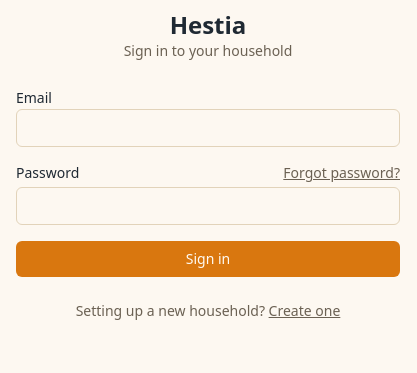
Test: LoginPage › shows an error message when login fails
The image size is (417, 373).
Type "j@example.com" into the field labelled "Email" at [208, 128], box x1=16 y1=109 x2=400 y2=147
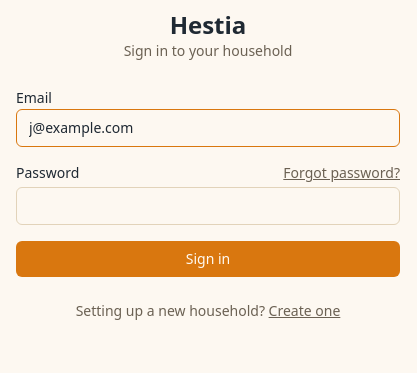
Type "wrong" into the password field labelled "Password" at [208, 206], box x1=16 y1=187 x2=400 y2=225
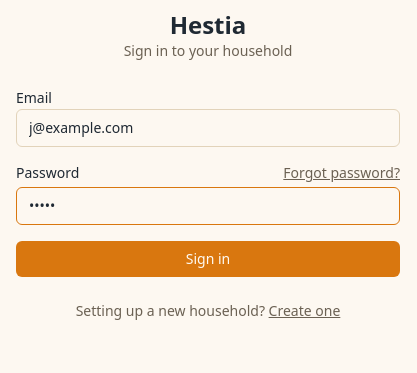
Click the button "Sign in" at [208, 259], box x1=16 y1=241 x2=400 y2=277
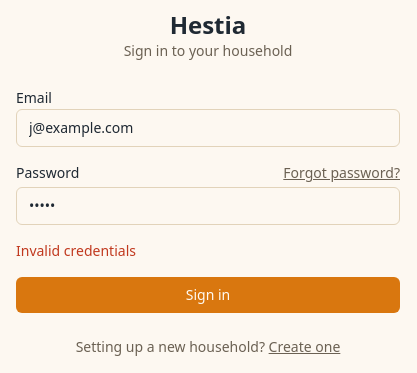
Result: the message reads "Invalid credentials" at x1=16 y1=241 x2=136 y2=260
